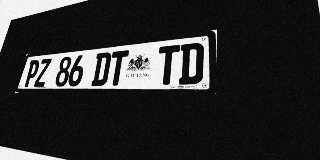6: (67, 55, 87, 86)
8: (54, 56, 73, 87)
D: (178, 42, 204, 85), (91, 52, 112, 86)
P: (23, 59, 41, 87)
T: (156, 45, 180, 85), (107, 50, 129, 86)
Z: (34, 58, 52, 87)
